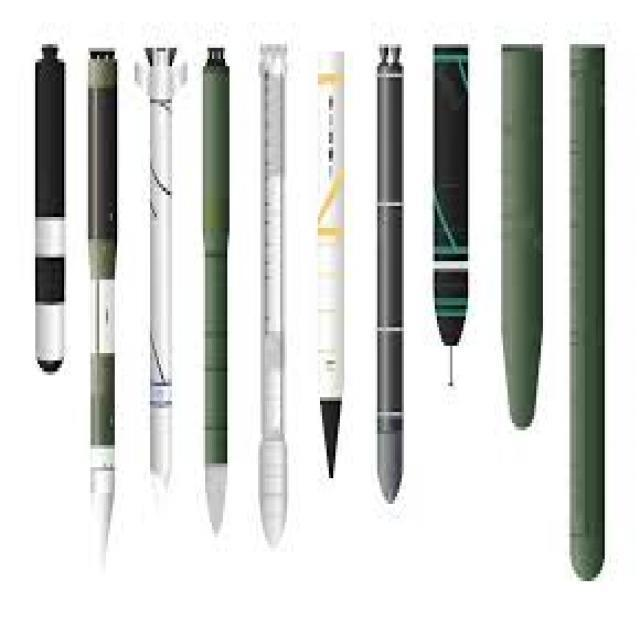Missile: (183, 35, 245, 549), (484, 27, 556, 457), (566, 28, 614, 613), (246, 39, 296, 572), (361, 43, 415, 527), (77, 34, 123, 573), (10, 33, 74, 391), (251, 44, 293, 556), (306, 41, 354, 476), (429, 42, 472, 358)
